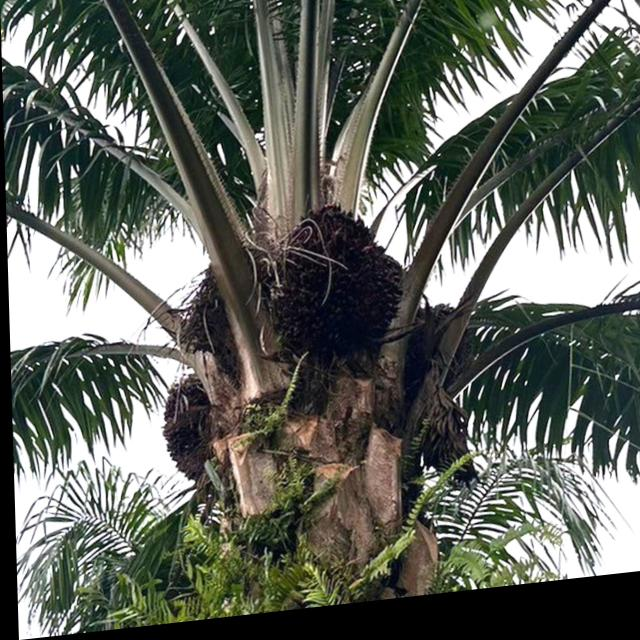ripe: (266, 200, 418, 375)
